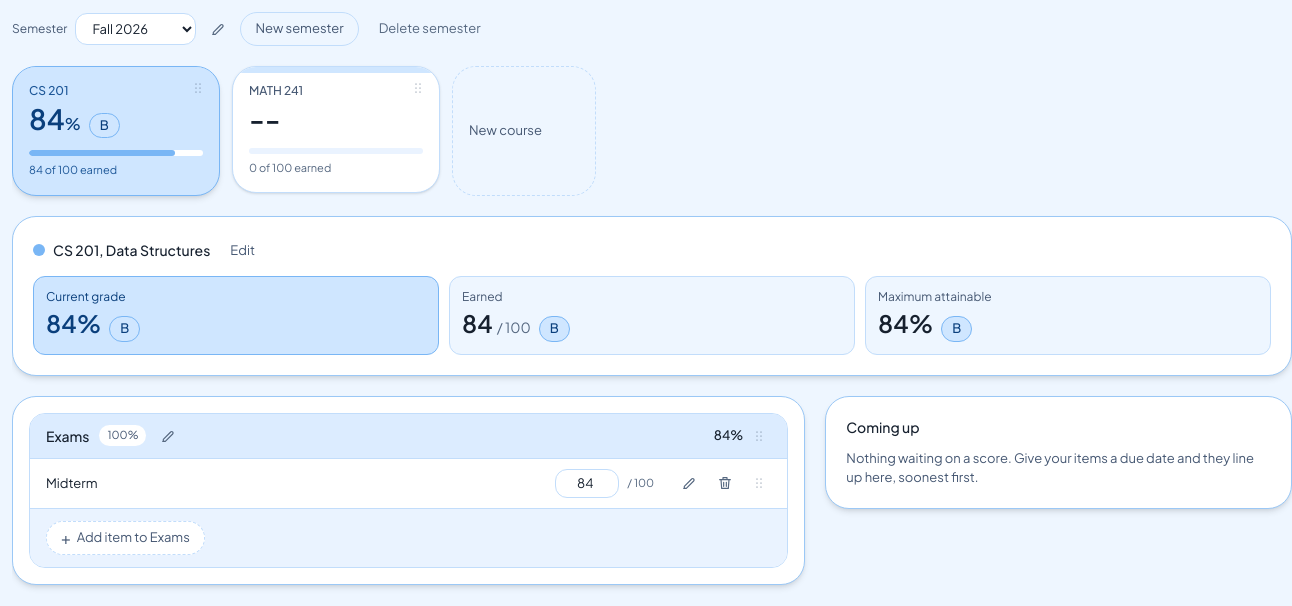
Test case: the academic page, several courses and semesters › switches semester and with it the course list
The width and height of the screenshot is (1292, 606).
Select "Spring 2027" in the dropdown labelled "Semester": (136, 29) [75, 13, 196, 45]
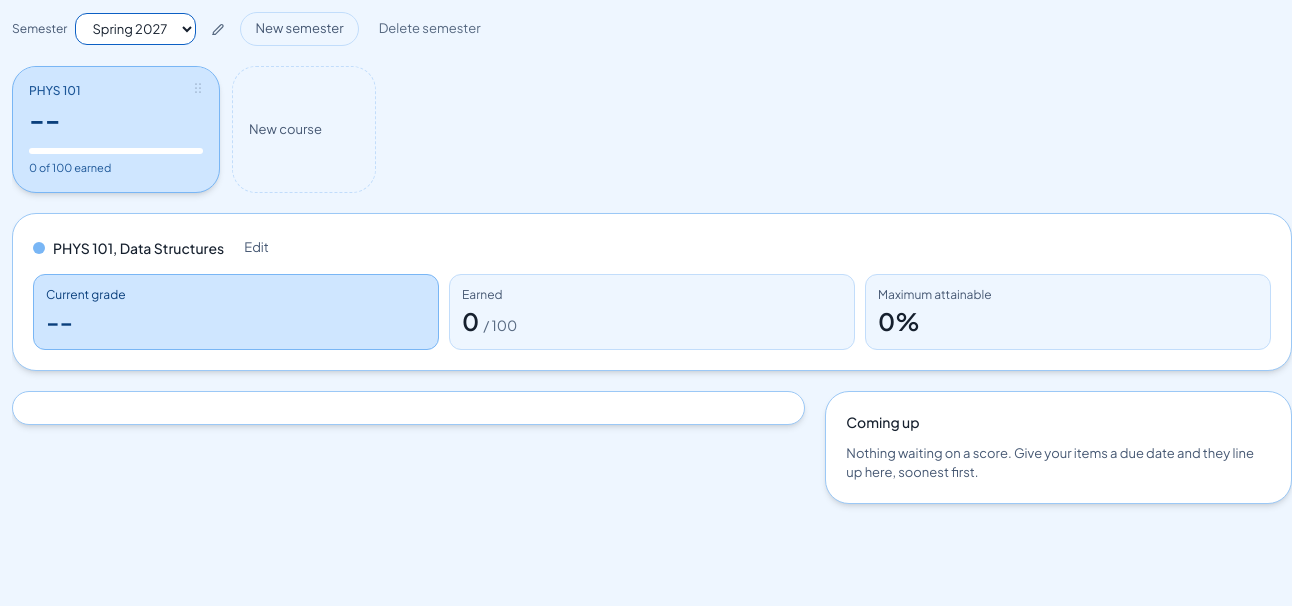
Now the button "PHYS 101 -- 0 of 100 earned" is shown, box [12, 66, 220, 193]
Now the button "CS 201" is gone
